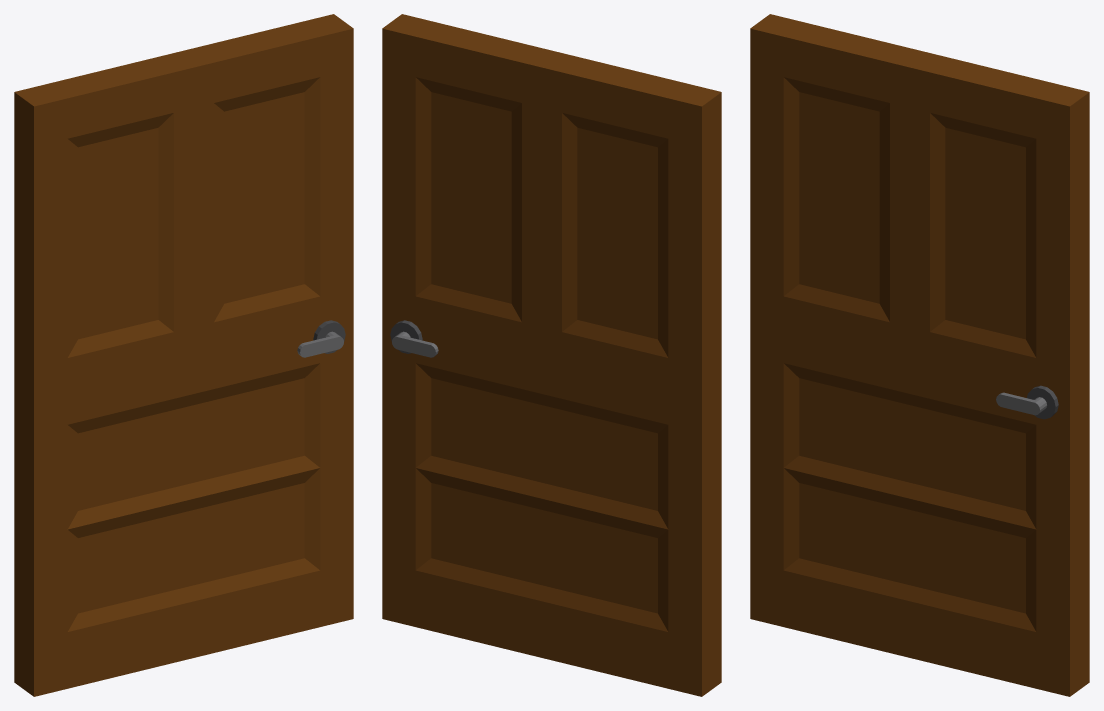
The model's file is _oor.fbx.
3 renders of one model, left to right at view 1: azimuth 30°, elevation 25°; view 2: azimuth 150°, elevation 25°; view 3: azimuth 330°, elevation 25°, orthographic.
Parts seen in each view (by area): view 1: Cube.079; view 2: Cube.079; view 3: Cube.079.
Boxes of the visible parts, box(x1,y1,x2,y2) form: Cube.079: box(14, 14, 353, 696); Cube.079: box(382, 14, 721, 696); Cube.079: box(750, 14, 1089, 696).
Bounding box in the file's own units: 129 × 228 × 28.02.
